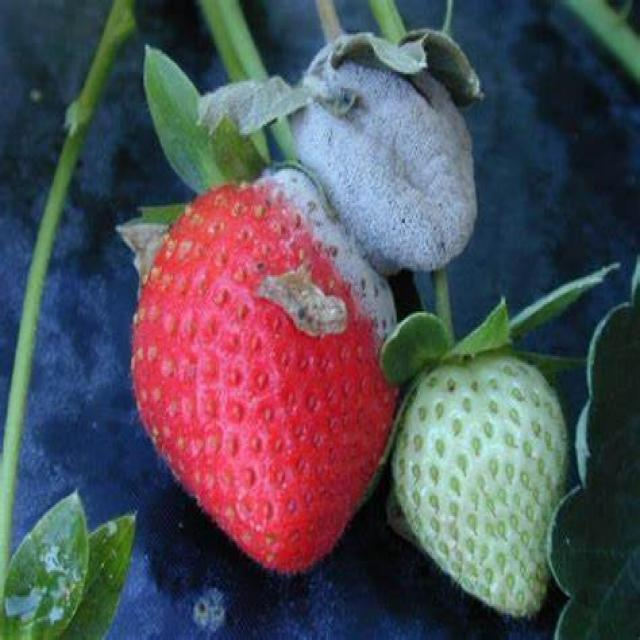Fruta sana: (404, 340, 548, 618)
Moho gris: (124, 189, 405, 588), (244, 7, 483, 284)
